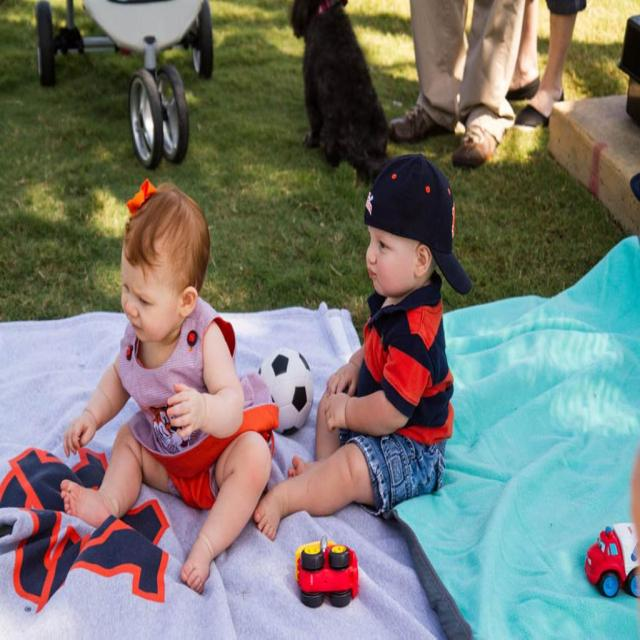Face: (115, 233, 180, 351), (361, 221, 411, 309)
